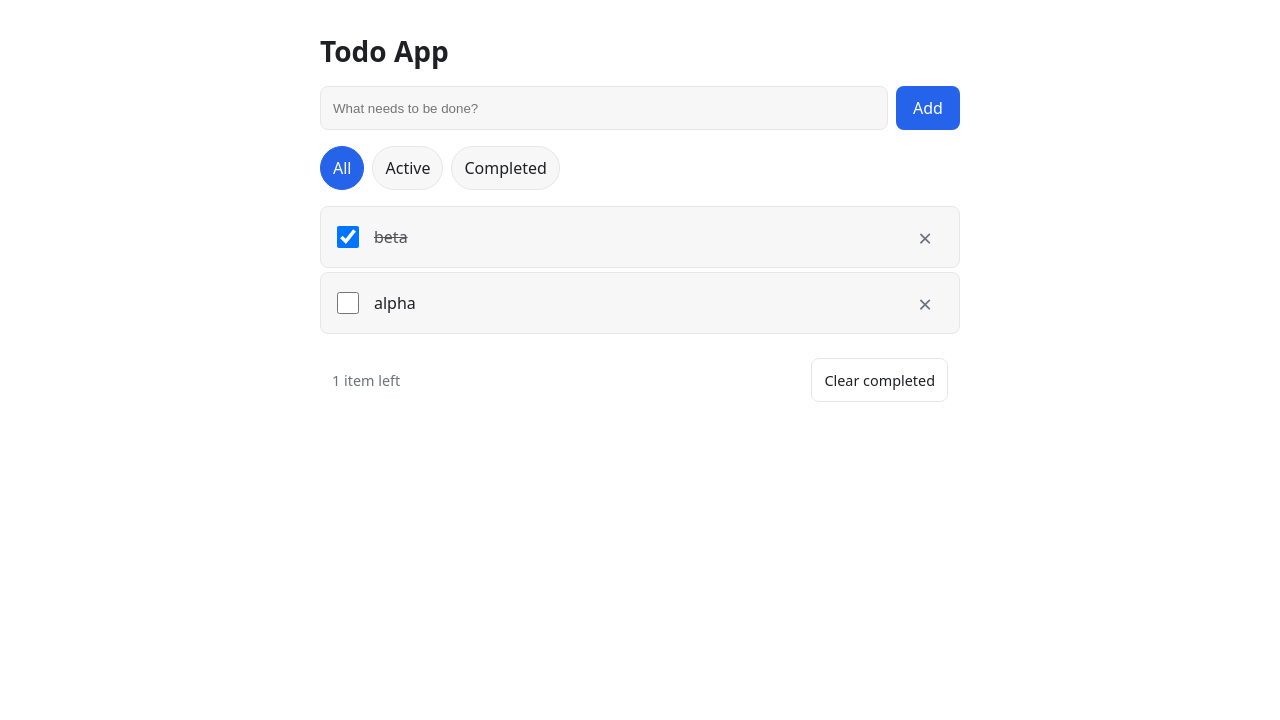
Mutations: rollback + retry › toggle: server 404 on a stale row reverts the optimistic state and offers Retry
Click the checkbox named "mark \"alpha\" as complete". click: (348,303)
box: x1=337 y1=292 x2=359 y2=314
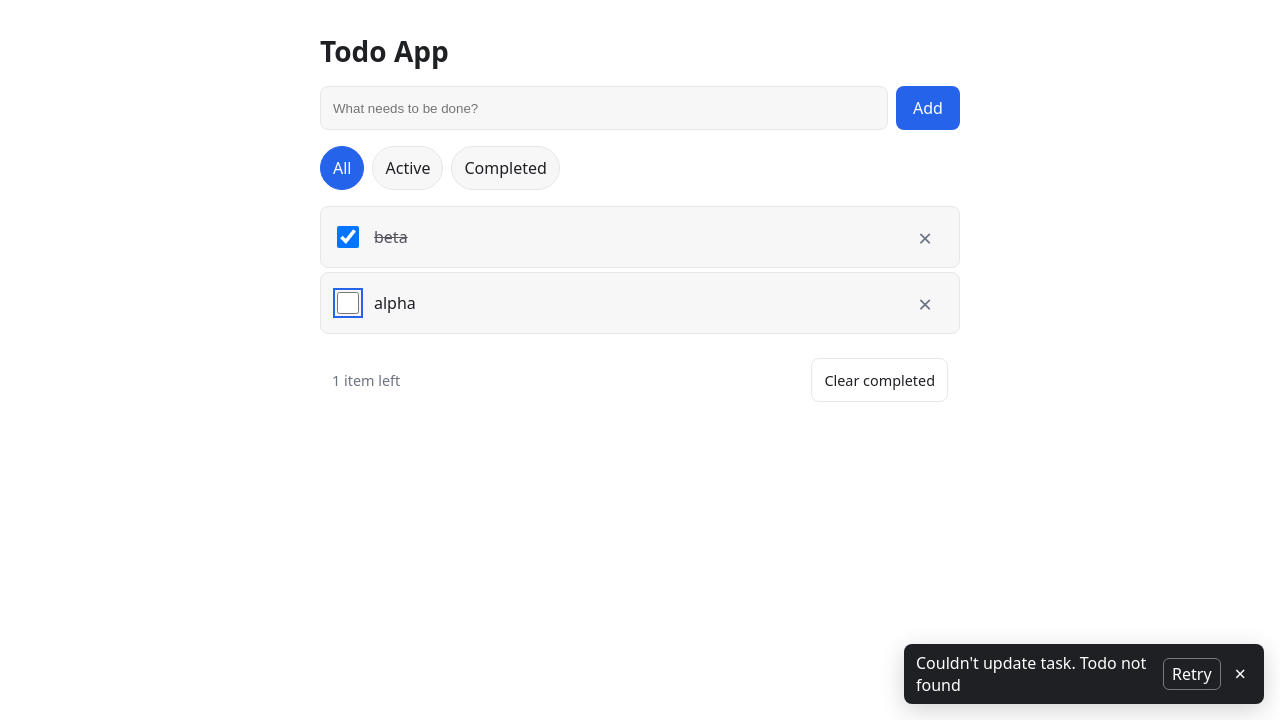
Now the button "Retry" is shown, box x1=1163 y1=658 x2=1220 y2=690
Now the text "Couldn't update task. Todo not found" is shown, box x1=916 y1=652 x2=1155 y2=696
